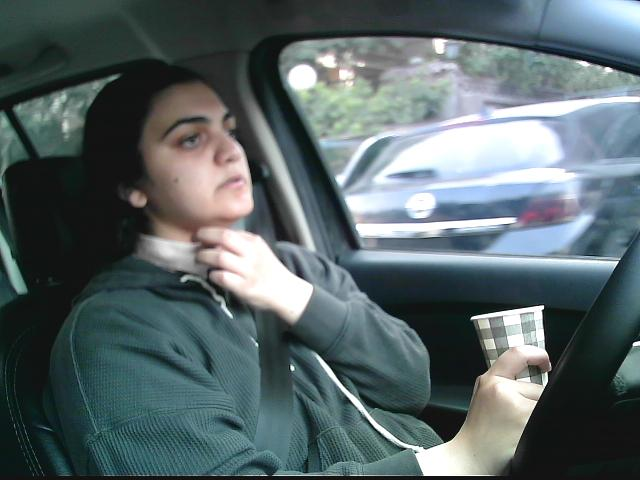Drinking: (469, 303, 557, 421)
